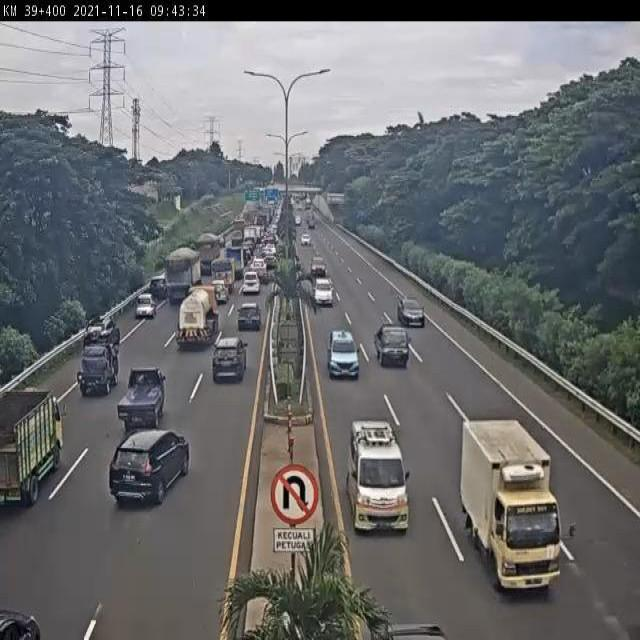car: (348, 419, 412, 536), (109, 428, 189, 507), (118, 367, 167, 428), (76, 343, 119, 396), (213, 335, 247, 385), (327, 329, 359, 382), (374, 324, 410, 368), (76, 323, 116, 356), (397, 297, 426, 331), (237, 304, 263, 335), (134, 293, 158, 323), (314, 275, 334, 308), (146, 273, 170, 299), (208, 281, 229, 308), (242, 270, 259, 294)
small truck: (460, 417, 574, 596), (1, 389, 71, 511)
truck-m-: (170, 284, 219, 355), (159, 249, 200, 311)
